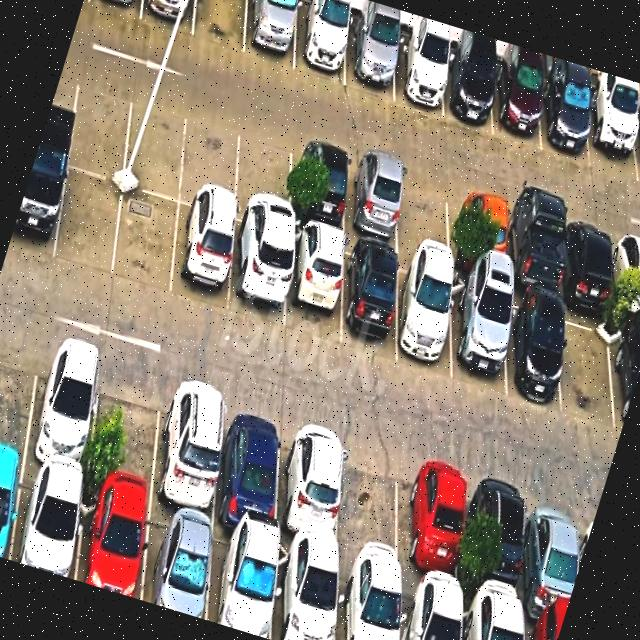empty: (87, 354, 164, 503), (339, 430, 406, 578), (122, 86, 190, 201), (54, 168, 123, 277), (67, 69, 133, 181), (113, 186, 178, 298), (562, 301, 617, 426), (179, 104, 239, 218), (234, 120, 292, 236), (0, 322, 41, 460), (399, 166, 450, 261), (192, 0, 247, 53)
occupied: (23, 333, 102, 482), (152, 374, 225, 522), (214, 393, 283, 537), (276, 412, 341, 558), (401, 447, 463, 597), (471, 467, 528, 613), (10, 465, 83, 579), (76, 485, 148, 600), (141, 505, 212, 620), (206, 525, 276, 639), (525, 483, 579, 624), (284, 224, 344, 345), (170, 204, 233, 312), (340, 240, 397, 359), (396, 256, 451, 379), (503, 289, 560, 407), (451, 274, 505, 396), (8, 153, 68, 260), (227, 223, 286, 330), (271, 544, 336, 640), (290, 136, 348, 234), (506, 198, 559, 298), (346, 151, 399, 248), (453, 182, 504, 280), (586, 89, 637, 182), (336, 565, 399, 640), (293, 0, 348, 85), (564, 213, 612, 308), (541, 72, 589, 166), (492, 59, 541, 150), (443, 48, 492, 134), (393, 32, 442, 117), (344, 18, 394, 99), (243, 0, 297, 70), (400, 580, 459, 640), (616, 316, 640, 432), (462, 598, 521, 640), (0, 458, 23, 559), (614, 227, 640, 315), (140, 0, 195, 35), (523, 614, 562, 640)
